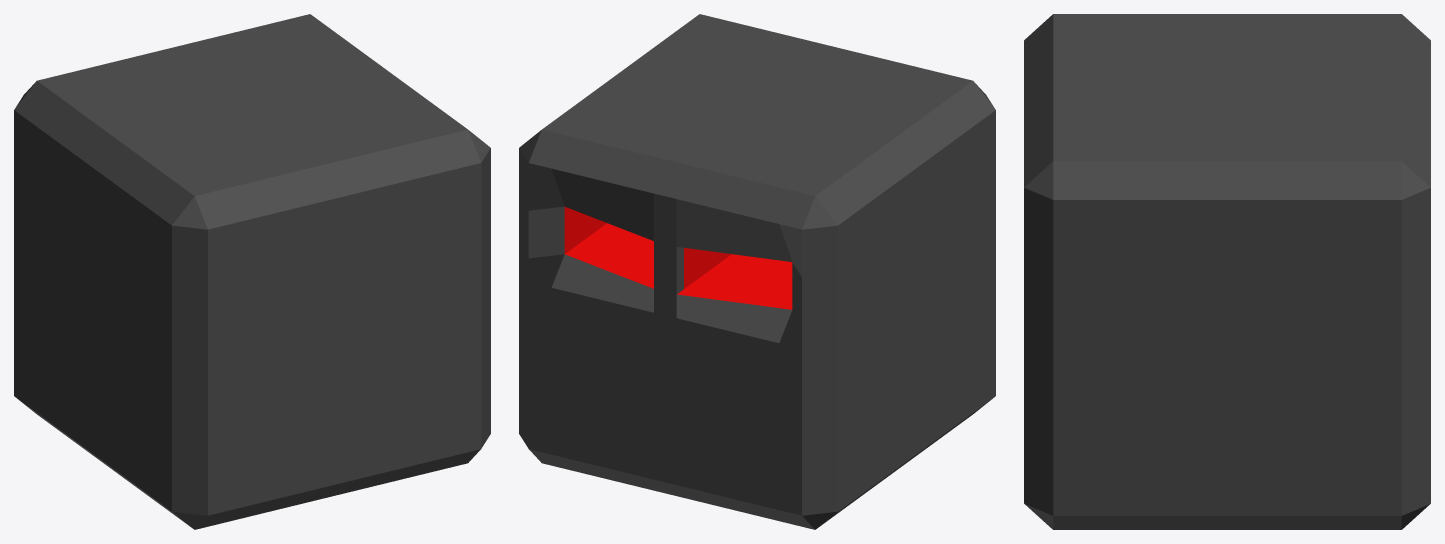
3 views of the same model, side by side, from view 1: azimuth 30°, elevation 25°; view 2: azimuth 150°, elevation 25°; view 3: azimuth 270°, elevation 25° (orthographic). The views are drawn at different scales.
Visible parts, largest first — view 1: beveled_cuboid; view 2: beveled_cuboid; view 3: beveled_cuboid.
Part boxes in pixels (x1,y1,x2,y2): beveled_cuboid: (14, 14, 490, 529); beveled_cuboid: (519, 14, 995, 529); beveled_cuboid: (1024, 14, 1430, 529).
Size of the model in its own units: 0.875 by 0.875 by 0.875.
Materials: 1 (1 with a texture image).
